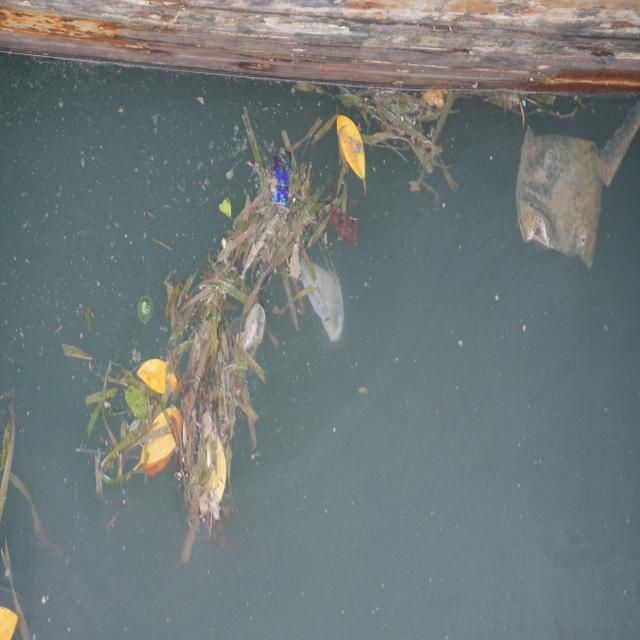Kantong Plastik: (515, 110, 602, 272), (298, 255, 348, 349), (233, 304, 273, 362)
